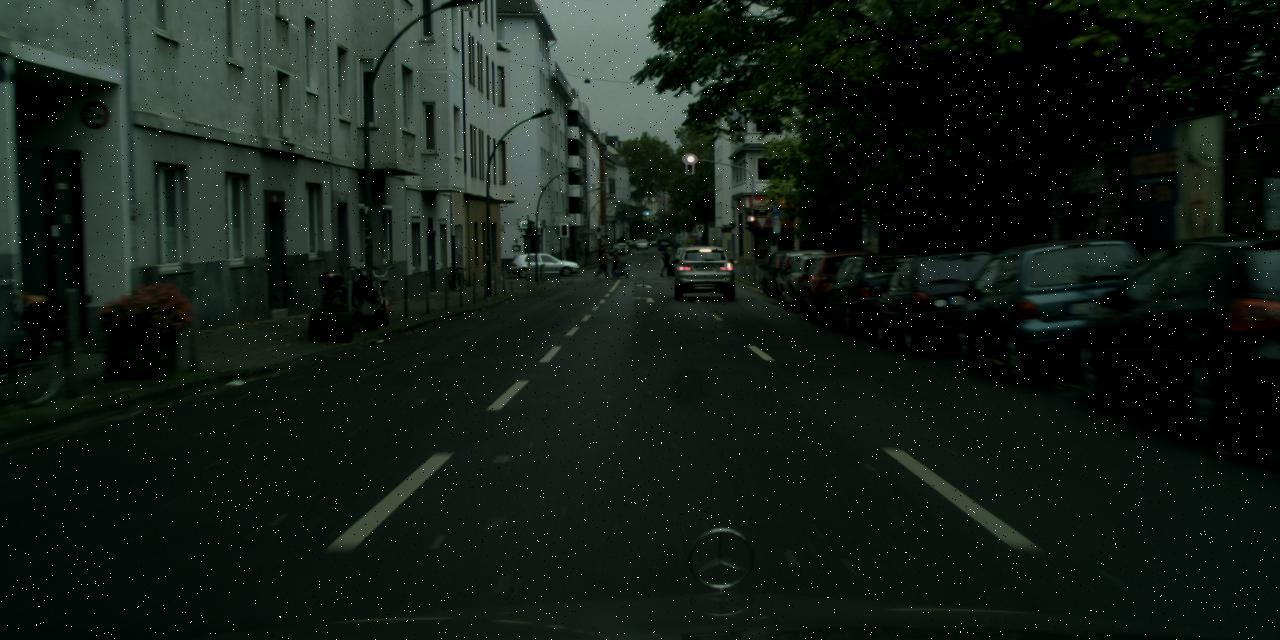ped: (596, 244, 608, 276), (598, 248, 610, 278), (610, 248, 622, 278), (661, 252, 671, 276)
